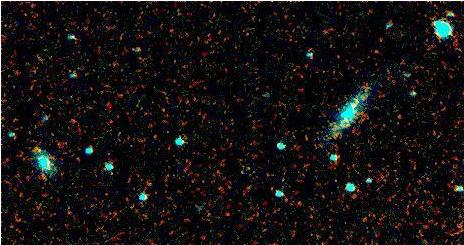star: (24, 134, 54, 164)
